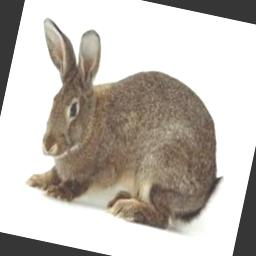rabbit: (26, 18, 222, 228)
